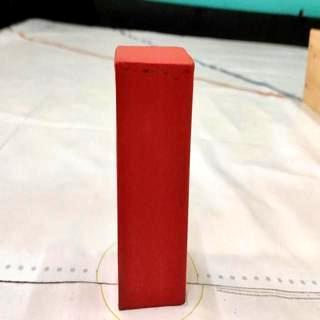redbox: (114, 44, 194, 310)
